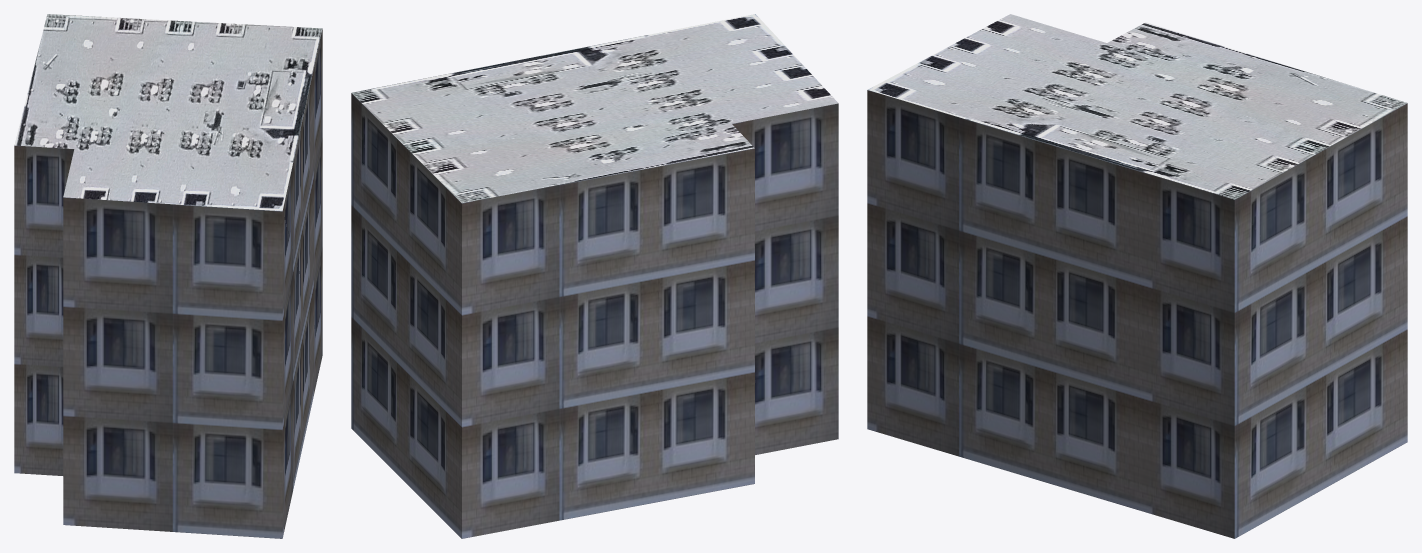
The model's file is ResTex__3591.fbx.
3 renders of one model, left to right at view 1: azimuth 30°, elevation 25°; view 2: azimuth 150°, elevation 25°; view 3: azimuth 270°, elevation 25°, orthographic. The views are drawn at different scales.
Parts seen in each view (by area): view 1: CityEngineMaterial_3_m, CityEngineMaterial_4_m; view 2: CityEngineMaterial_3_m, CityEngineMaterial_4_m; view 3: CityEngineMaterial_3_m, CityEngineMaterial_4_m.
Boxes of the visible parts, <box> form: CityEngineMaterial_3_m: <box>14,28,322,538</box>; CityEngineMaterial_4_m: <box>14,14,322,211</box>; CityEngineMaterial_3_m: <box>351,93,838,538</box>; CityEngineMaterial_4_m: <box>351,14,838,202</box>; CityEngineMaterial_3_m: <box>867,90,1407,538</box>; CityEngineMaterial_4_m: <box>867,14,1406,199</box>.
Bounding box in the file's own units: 10.57 × 9 × 12.99.
Materials: 2 (2 with a texture image).
